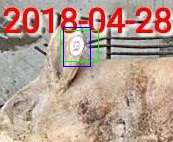text: (60, 30, 98, 61)
